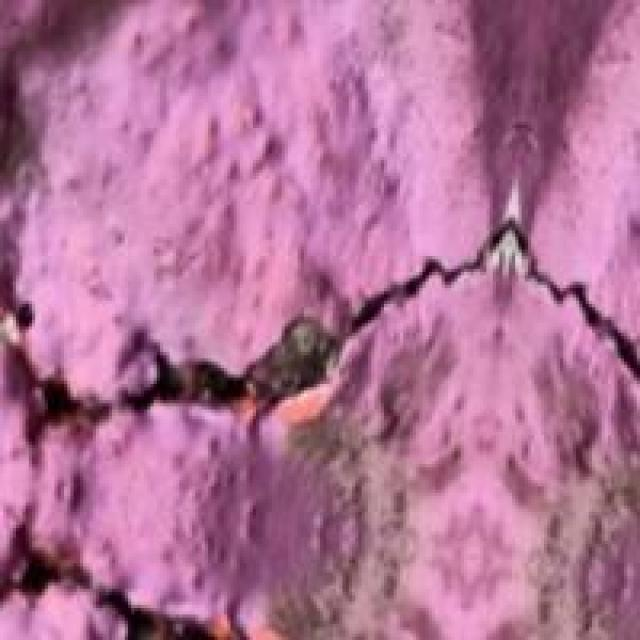Crack: (22, 224, 637, 554)
